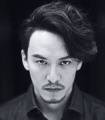male: (12, 1, 100, 107)
